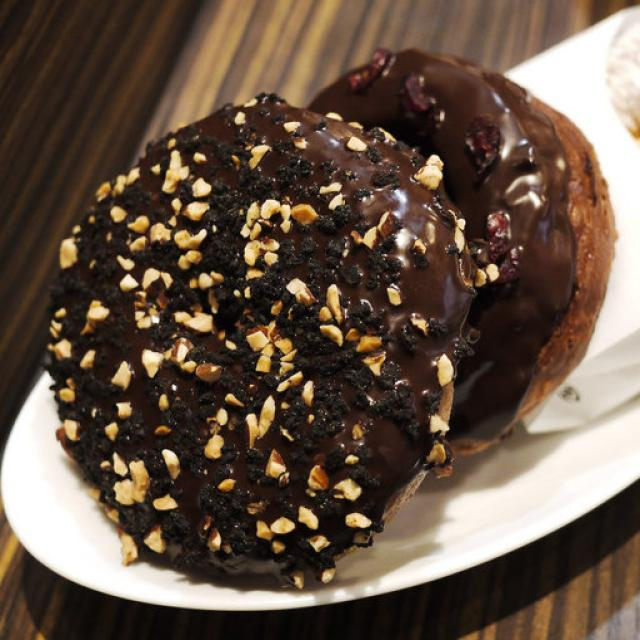Donuts: (26, 48, 610, 605)
